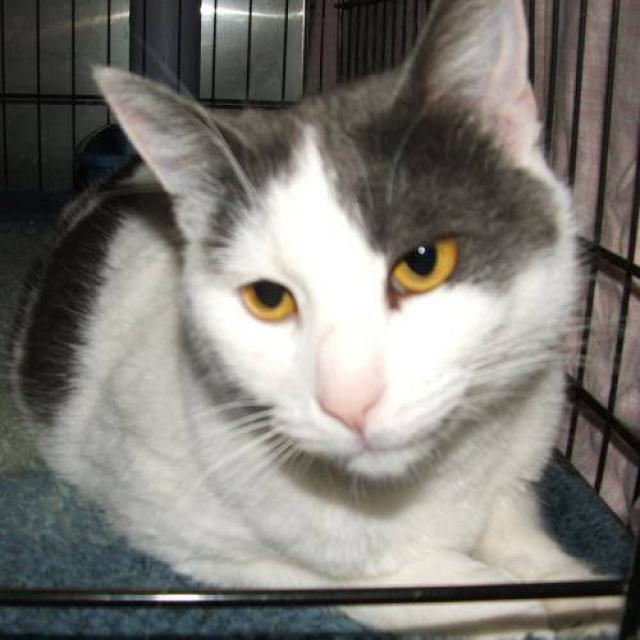cat: (2, 0, 634, 639)
